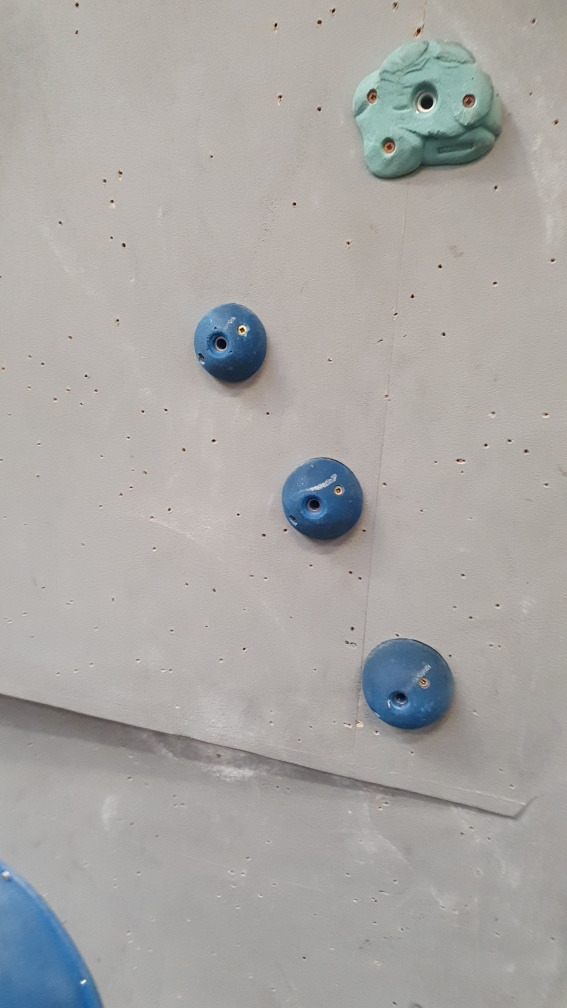Sloper: (358, 636, 461, 741), (183, 298, 276, 392), (276, 453, 370, 546)
